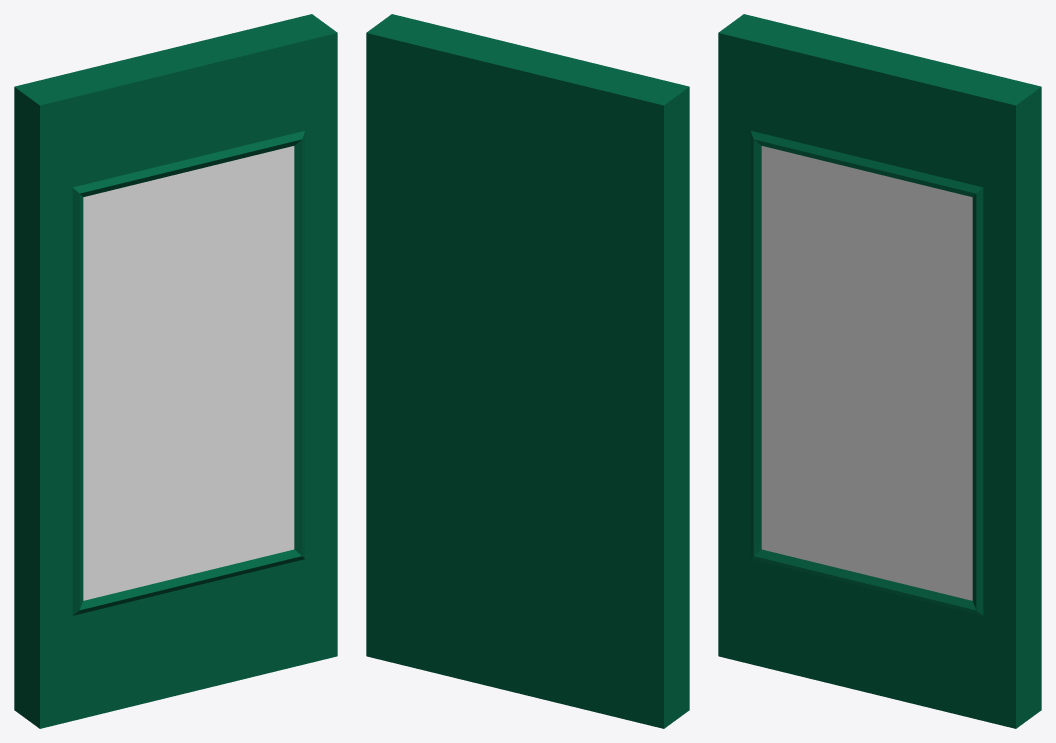
The model's file is GreenGalleryInfo.glb.
3 renders of one model, left to right at view 1: azimuth 30°, elevation 25°; view 2: azimuth 150°, elevation 25°; view 3: azimuth 330°, elevation 25°, orthographic.
Visible parts, largest first — view 1: galleryInfo_green; view 2: galleryInfo_green; view 3: galleryInfo_green.
Boxes of the visible parts, left/top/right/bottom form: galleryInfo_green: left=14, top=14, right=337, bottom=728; galleryInfo_green: left=366, top=14, right=689, bottom=728; galleryInfo_green: left=718, top=14, right=1041, bottom=728.
Size of what is drawn, in the model's own units: 2 by 4 by 0.3245.
Materials: 1 (1 with a texture image).
